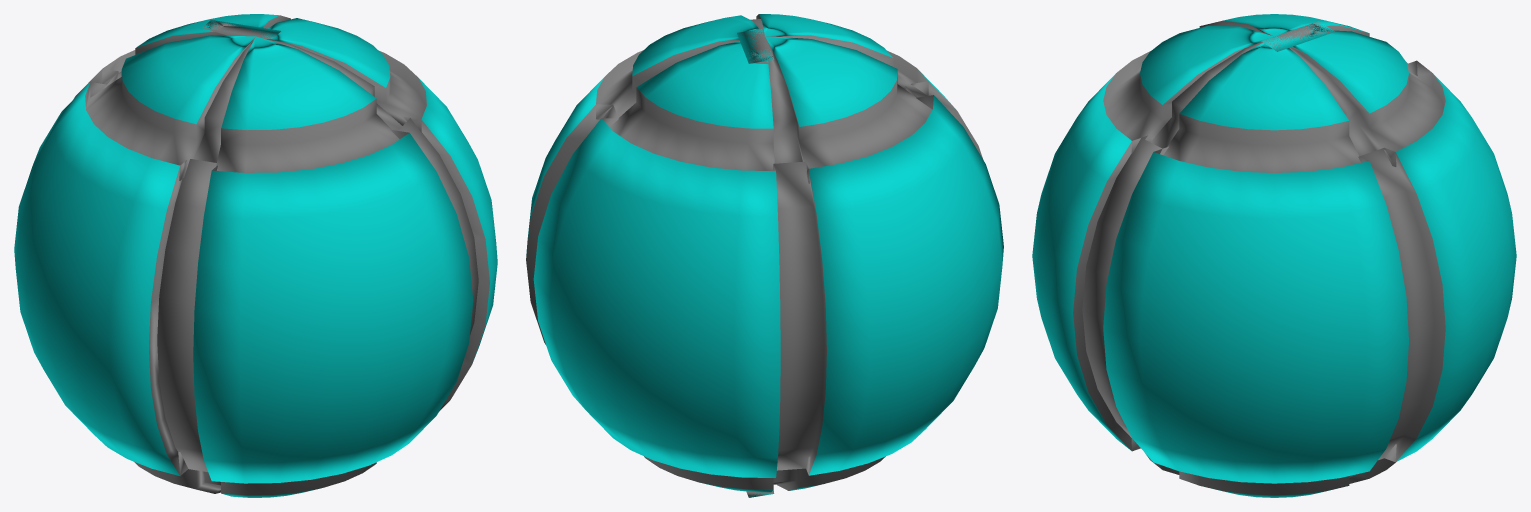
Rendered from TealBubble.fbx.
3 renders of one model, left to right at view 1: azimuth 30°, elevation 25°; view 2: azimuth 150°, elevation 25°; view 3: azimuth 270°, elevation 25°, orthographic.
Parts seen in each view (by area): view 1: Sphere; view 2: Sphere; view 3: Sphere.
Boxes of the visible parts, x1,y1,x2,y2 form: Sphere: (14,14,497,497); Sphere: (526,14,1003,497); Sphere: (1032,14,1516,497).
Bounding box in the file's own units: 2 × 2.01 × 2.
